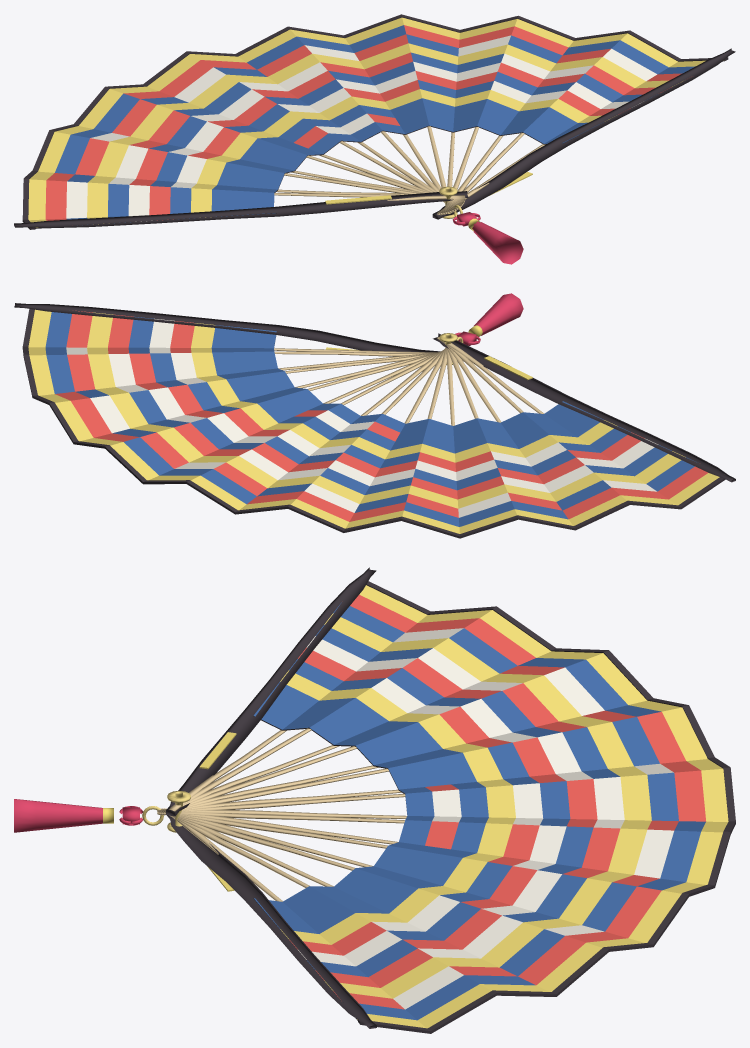
Rendered from craft_sensu.glb.
3 views of the same model, one above another, from view 1: azimuth 30°, elevation 25°; view 2: azimuth 150°, elevation 25°; view 3: azimuth 270°, elevation 25° (orthographic). The views are drawn at different scales.
Visible parts, largest first — view 1: Sensu_Paper_Leaf, Sensu_Inner_Ribs, Sensu_Guard_Rib_Left, Sensu_Guard_Rib_Right, Sensu_Rim_Binding, Sensu_Tassel_Fringe; view 2: Sensu_Paper_Leaf, Sensu_Inner_Ribs, Sensu_Rim_Binding, Sensu_Guard_Rib_Right, Sensu_Guard_Rib_Left, Sensu_Tassel_Fringe; view 3: Sensu_Paper_Leaf, Sensu_Inner_Ribs, Sensu_Rim_Binding, Sensu_Guard_Rib_Left, Sensu_Guard_Rib_Right, Sensu_Tassel_Fringe.
Boxes of the visible parts, x1,y1,x2,y2 form: Sensu_Paper_Leaf: (28, 17, 726, 228); Sensu_Inner_Ribs: (274, 126, 545, 215); Sensu_Guard_Rib_Left: (14, 191, 468, 228); Sensu_Guard_Rib_Right: (432, 48, 735, 219); Sensu_Rim_Binding: (22, 14, 728, 229); Sensu_Tassel_Fringe: (472, 221, 523, 264); Sensu_Paper_Leaf: (28, 309, 719, 533); Sensu_Inner_Ribs: (274, 337, 544, 425); Sensu_Rim_Binding: (22, 306, 725, 538); Sensu_Guard_Rib_Right: (14, 303, 463, 361); Sensu_Guard_Rib_Left: (433, 333, 735, 482); Sensu_Tassel_Fringe: (474, 293, 523, 335); Sensu_Paper_Leaf: (253, 585, 728, 1028); Sensu_Inner_Ribs: (157, 728, 406, 901); Sensu_Rim_Binding: (358, 579, 735, 1033); Sensu_Guard_Rib_Left: (166, 567, 376, 816); Sensu_Guard_Rib_Right: (167, 815, 376, 1028); Sensu_Tassel_Fringe: (14, 799, 102, 832).
Bounding box in the file's own units: 1.95 × 0.0773 × 1.3.
